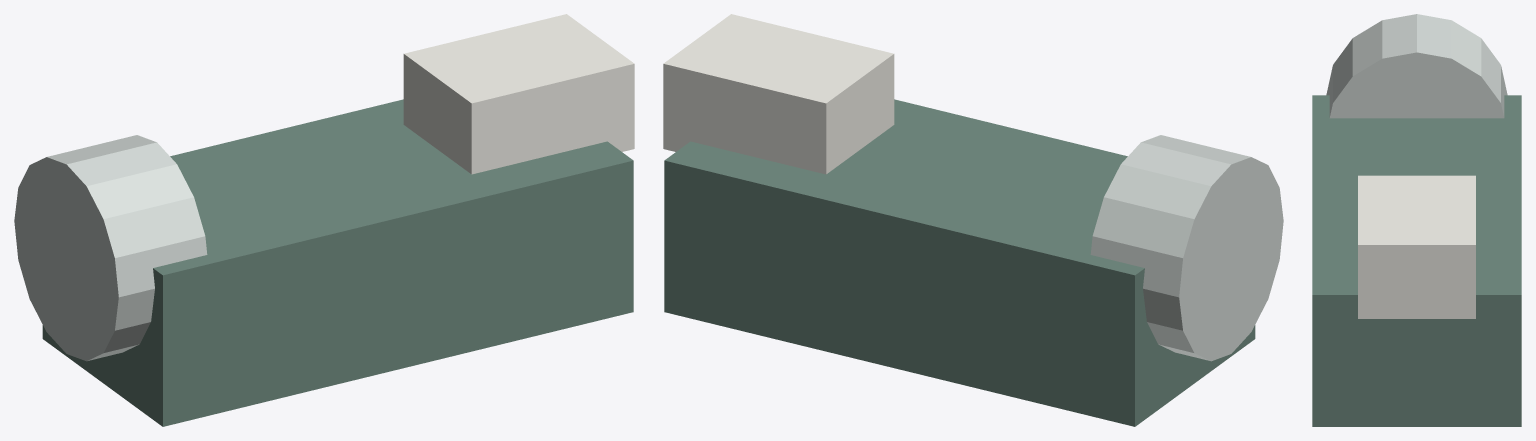
Rendered from s7-f-r01-repair-tool.glb.
3 renders of one model, left to right at view 1: azimuth 30°, elevation 25°; view 2: azimuth 150°, elevation 25°; view 3: azimuth 270°, elevation 25°, orthographic. The views are drawn at different scales.
Parts seen in each view (by area): view 1: repairtool_001, bit_003, handle_002; view 2: repairtool_001, bit_003, handle_002; view 3: repairtool_001, handle_002, bit_003.
Part boxes in pixels (bbox=[...]): repairtool_001: bbox=[42, 99, 633, 426]; bit_003: bbox=[14, 135, 207, 361]; handle_002: bbox=[403, 14, 634, 174]; repairtool_001: bbox=[664, 99, 1255, 426]; bit_003: bbox=[1090, 135, 1283, 361]; handle_002: bbox=[663, 14, 894, 174]; repairtool_001: bbox=[1312, 95, 1521, 426]; handle_002: bbox=[1358, 175, 1475, 318]; bit_003: bbox=[1326, 14, 1507, 118].
Size of the model in its own units: 0.59 by 0.24 by 0.23.
